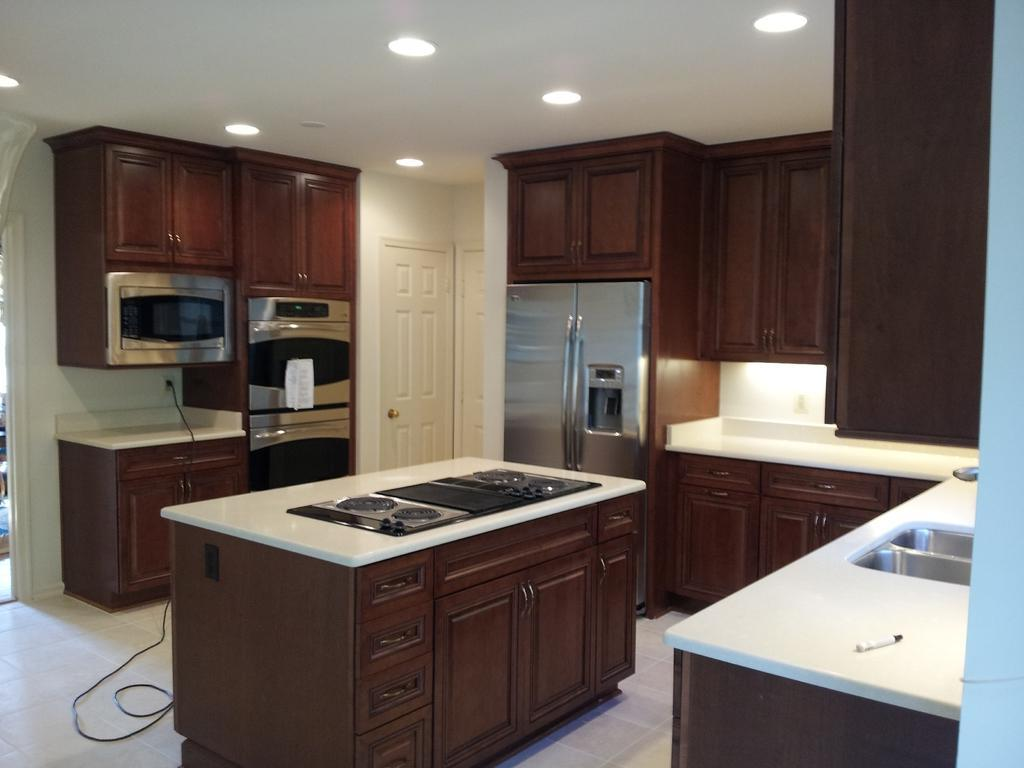door: (382, 251, 454, 466)
handle: (384, 412, 402, 426)
